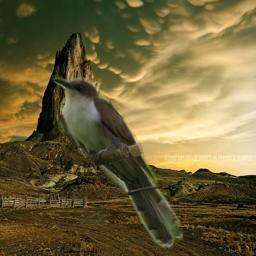Cuckoo: (50, 74, 183, 248)
